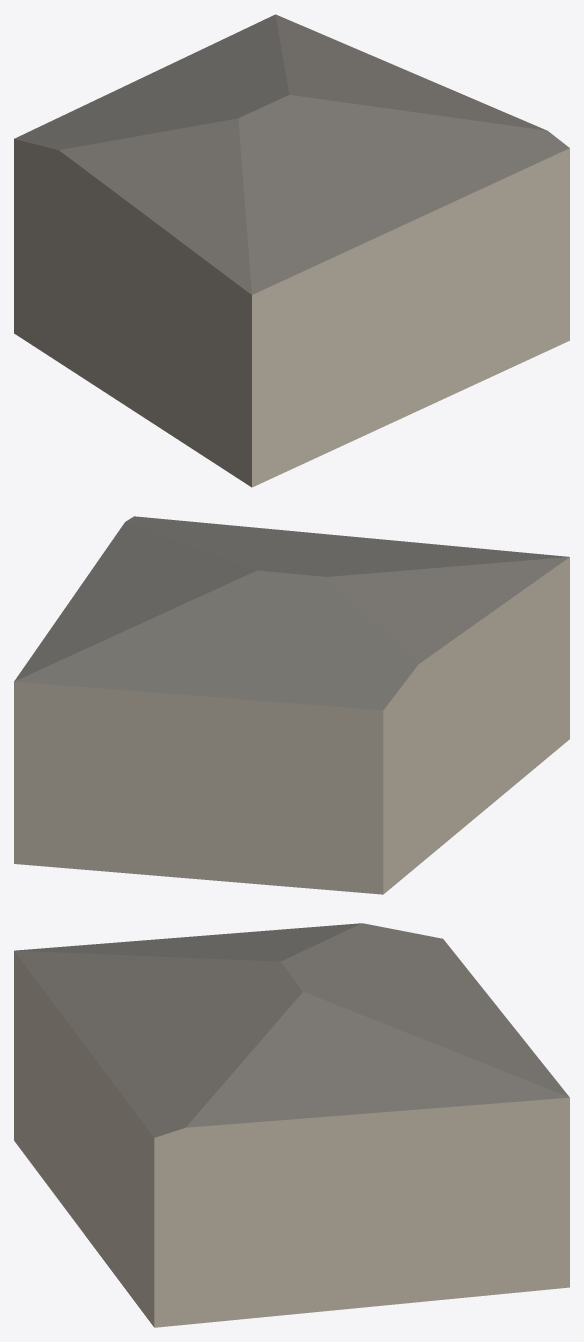
The picture shows the model from 3 angles, top to bottom: view 1: azimuth 30°, elevation 25°; view 2: azimuth 150°, elevation 25°; view 3: azimuth 270°, elevation 25°; orthographic projection. The views are drawn at different scales.
Visible parts, largest first — view 1: HP-w428202607; view 2: HP-w428202607; view 3: HP-w428202607.
Boxes of the visible parts, x1,y1,x2,y2 form: HP-w428202607: (14,14,569,487); HP-w428202607: (14,516,569,894); HP-w428202607: (14,923,569,1327).
Size of the model in its own units: 26.72 by 15 by 31.84.
